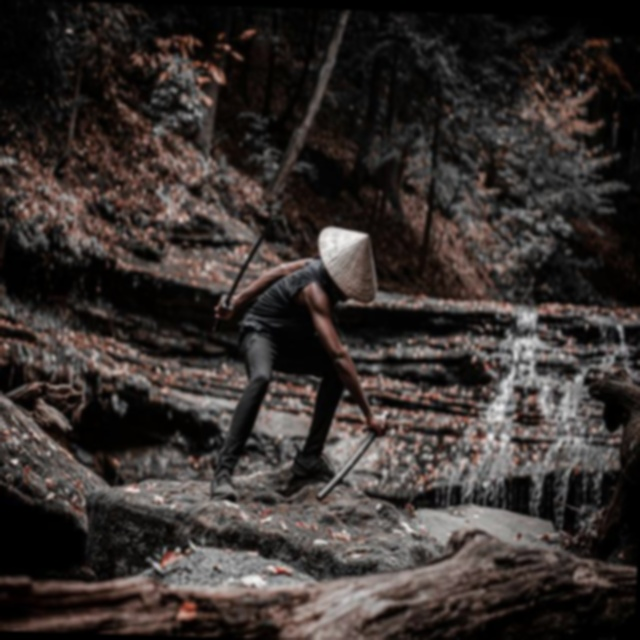Sharp-Object: (205, 215, 282, 338)
